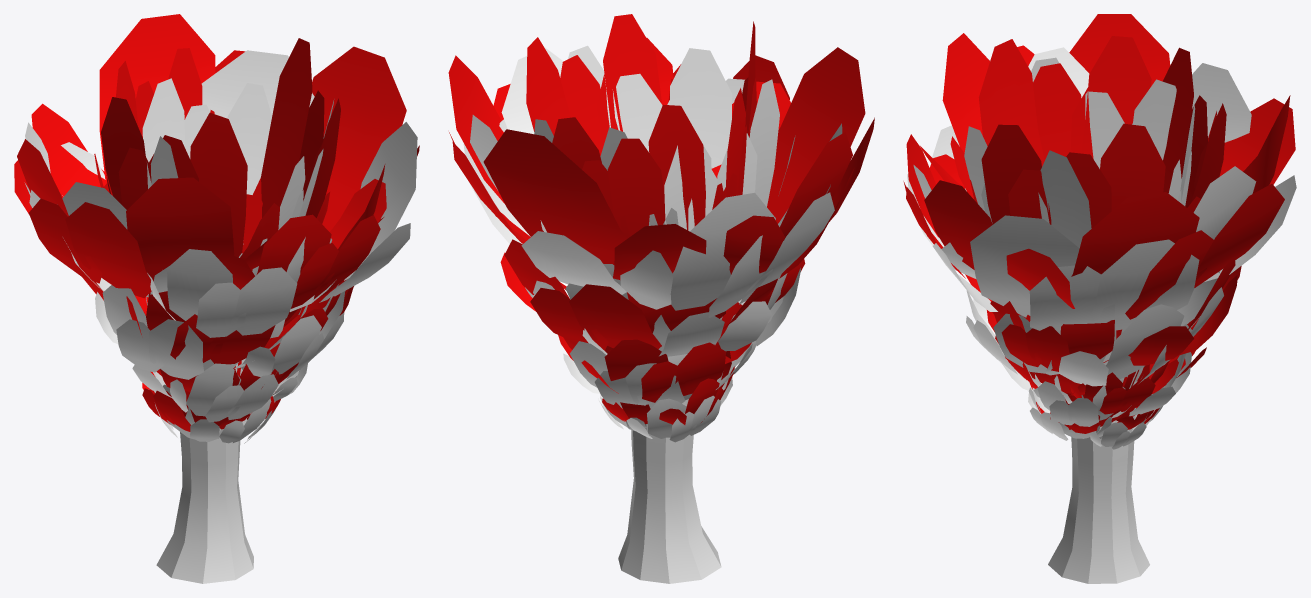
File: tree02.fbx
3 renders of one model, left to right at view 1: azimuth 30°, elevation 25°; view 2: azimuth 150°, elevation 25°; view 3: azimuth 270°, elevation 25°, orthographic. The views are drawn at different scales.
Visible parts, largest first — view 1: tree01; view 2: tree01; view 3: tree01.
Boxes of the visible parts, x1,y1,x2,y2 form: tree01: [14, 14, 419, 583]; tree01: [448, 14, 874, 583]; tree01: [903, 14, 1296, 583].
Size of the model in its own units: 272 by 354 by 250.
